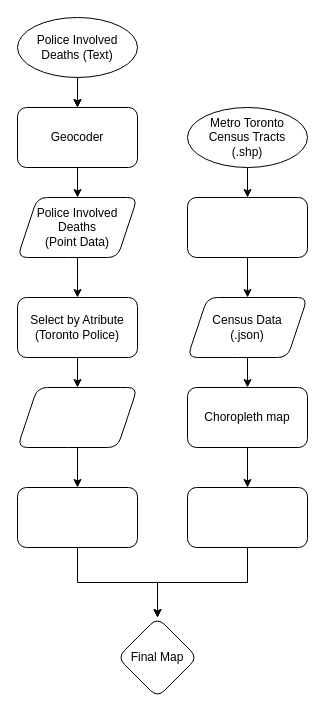
Image size: 325x715. Some labels were removed from this diagram. The centre of each missing label's shape, as x and y in pixels:
"Calculate Fields, Convert File Type" belongs at point (247, 227).
"Display Points" belongs at point (77, 517).
"Police Involved Deaths (Toronto)" belongs at point (77, 417).
"Tooltip" belongs at point (247, 517).
